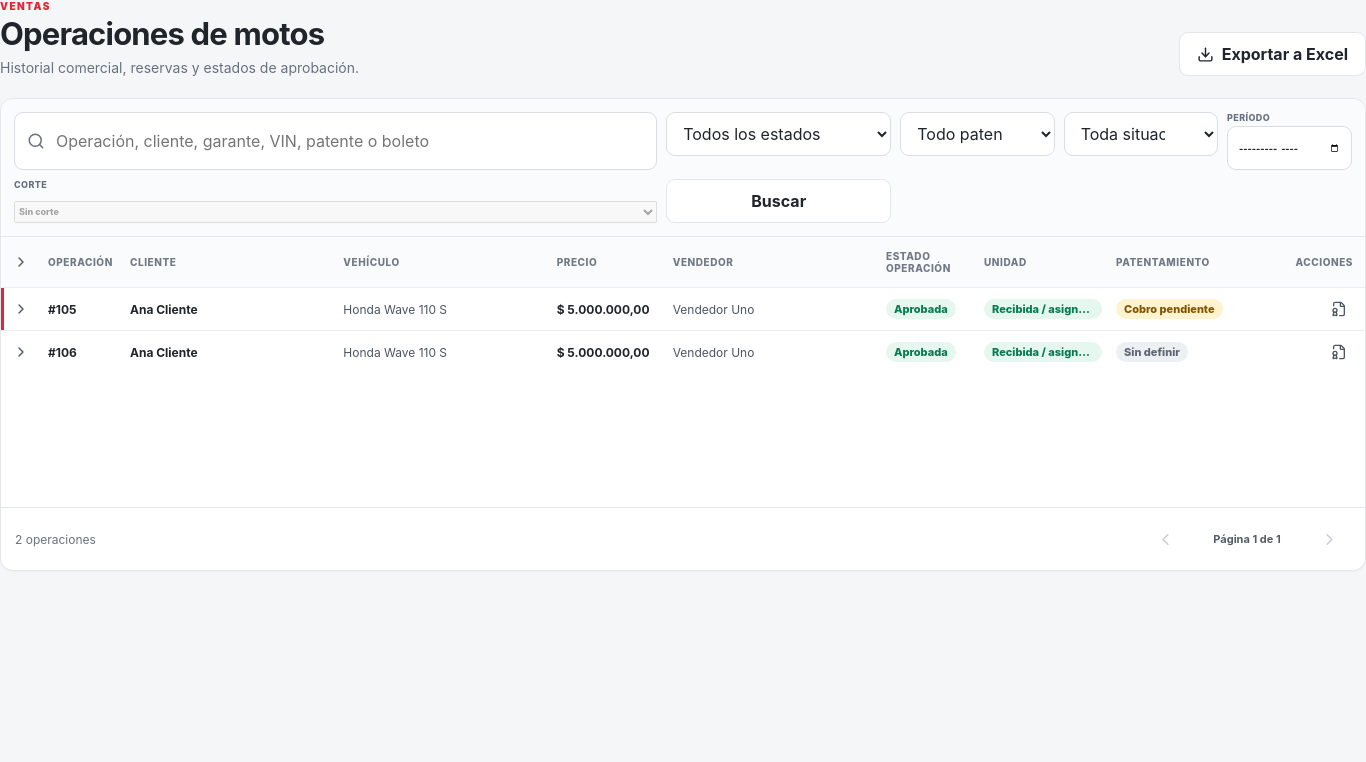
it: Patentamiento en la grilla administrativa › muestra la columna, resalta demoradas y el número de boleto
The image size is (1366, 762).
Expected: the column heading "Patentamiento" is shown, [1109, 237, 1233, 288]
// El detalle de cada venta está en el acordeón: se despliegan todas.
Click the button named "Desplegar todas" at [21, 262], box [7, 248, 35, 276]
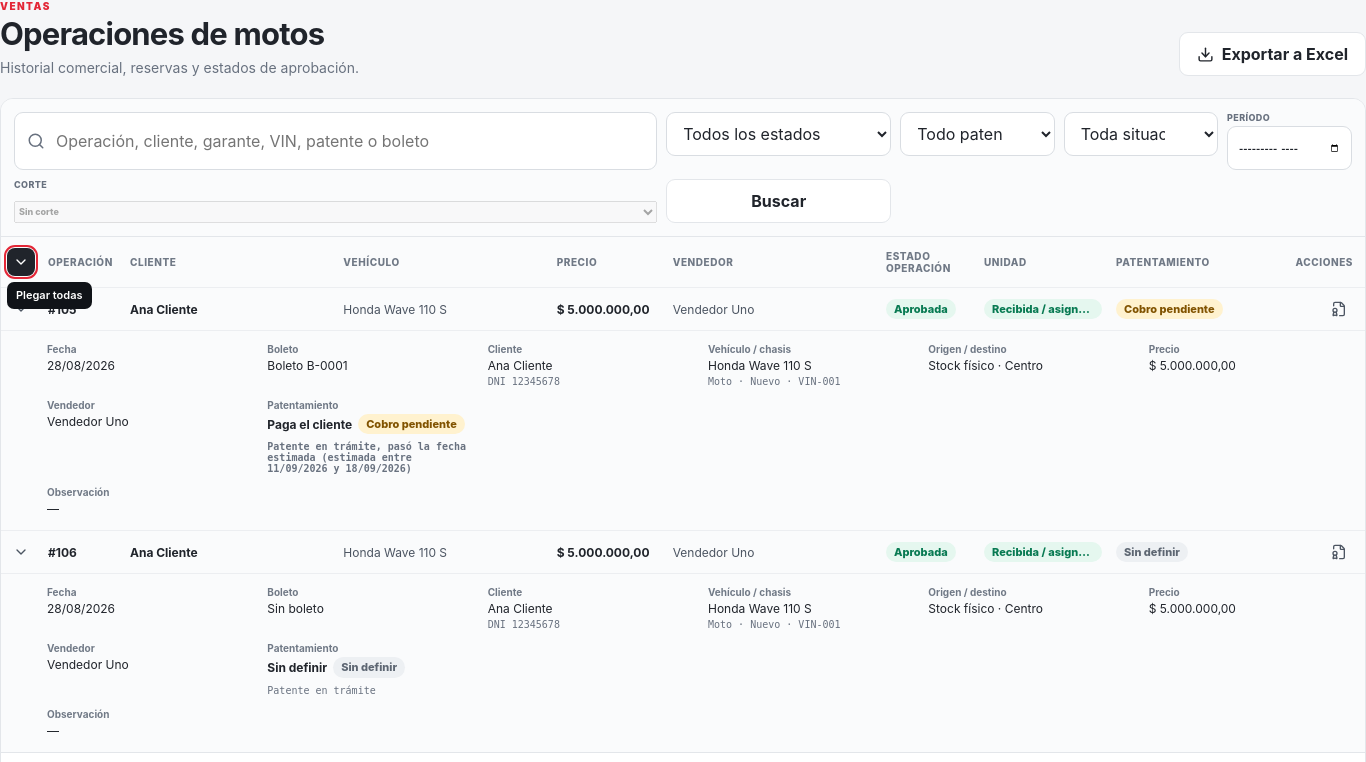
Expected: the text "Paga el cliente" is shown, [267, 417, 352, 432]
Expected: the text "Boleto B-0001" is shown, [267, 358, 348, 373]
Expected: the text "Patente en trámite, pasó la fecha estimada (estimada entre 11/09/2026 y 18/09/2026)" is shown, [267, 441, 466, 474]
